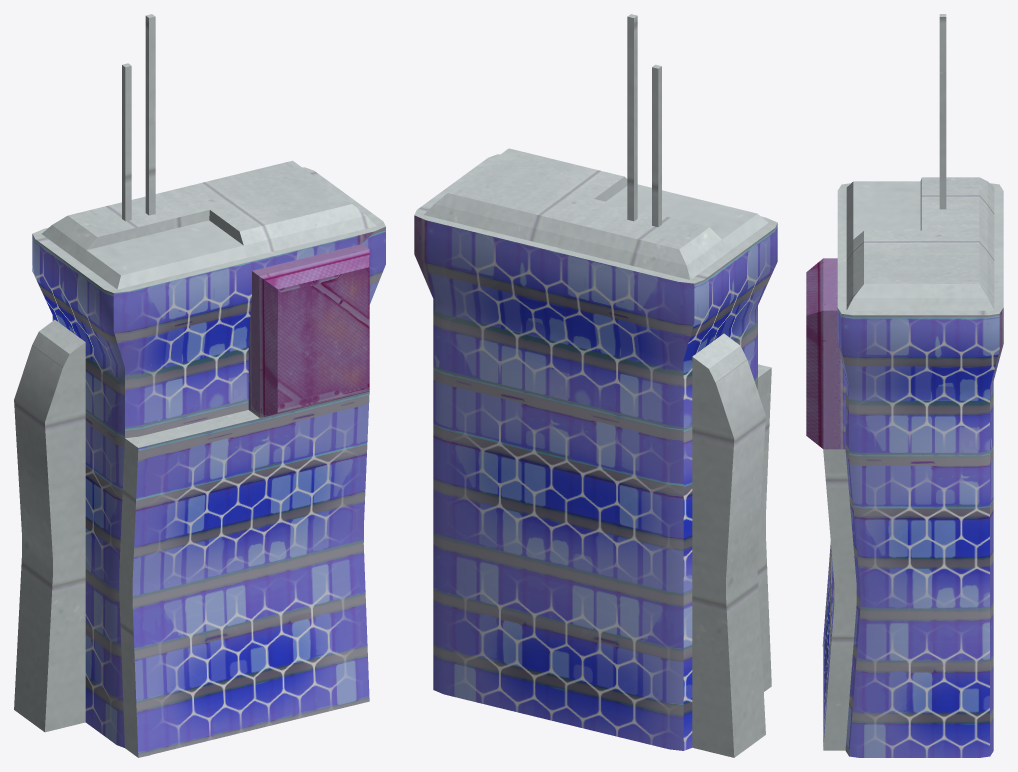
The model's file is RectangleBuilding - Copy.fbx.
The picture shows the model from 3 angles, left to right: view 1: azimuth 30°, elevation 25°; view 2: azimuth 150°, elevation 25°; view 3: azimuth 270°, elevation 25°; orthographic projection. The views are drawn at different scales.
Parts seen in each view (by area): view 1: RectangleBuilding; view 2: RectangleBuilding; view 3: RectangleBuilding.
Part boxes in pixels (x1,y1,x2,y2): RectangleBuilding: [14, 14, 385, 757]; RectangleBuilding: [414, 14, 777, 757]; RectangleBuilding: [806, 14, 1003, 757].
Size of the model in its own units: 273 by 582 by 158.
